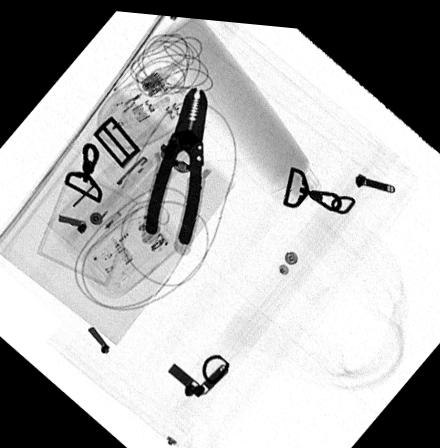Pliers: (143, 81, 209, 243)
